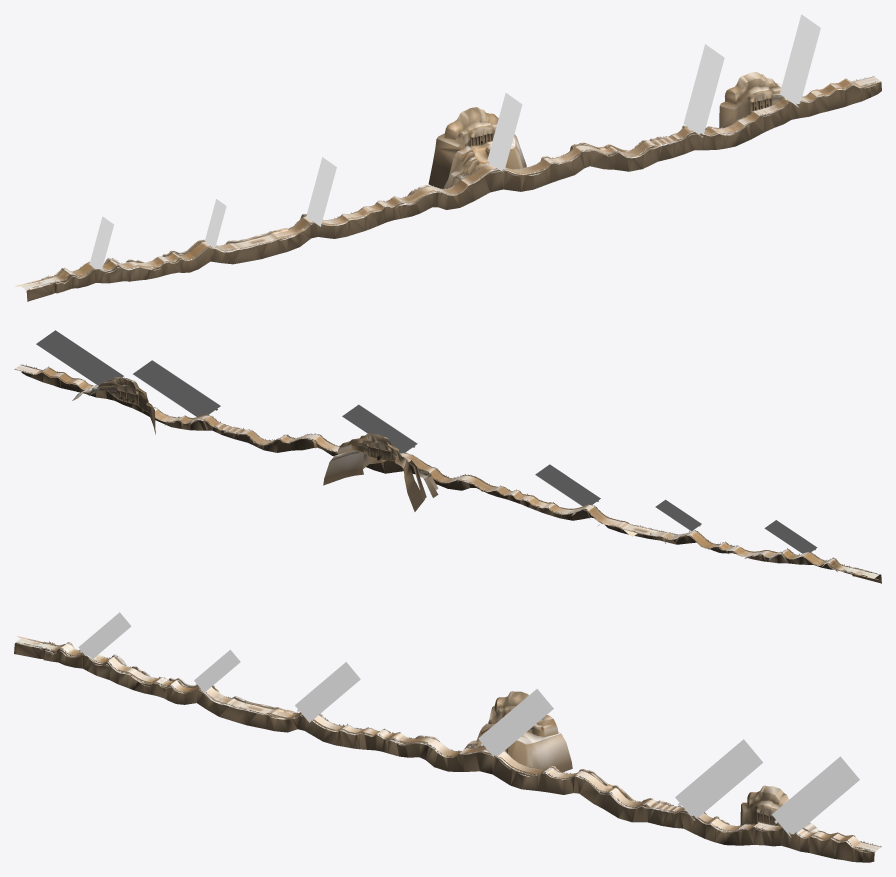
Rendered from Desert_11.fbx.
3 renders of one model, top to bottom at view 1: azimuth 30°, elevation 25°; view 2: azimuth 150°, elevation 25°; view 3: azimuth 330°, elevation 25°, orthographic.
Parts seen in each view (by area): view 1: Mountain_01, Light_01, Ground_01, Road_01, Tree_01; view 2: Mountain_01, Light_01, Ground_01, Road_01, Tree_01; view 3: Mountain_01, Light_01, Ground_01, Road_01, Tree_01.
Part boxes in pixels (x1,y1,x2,y2): Mountain_01: (26, 72, 881, 301); Light_01: (89, 14, 820, 269); Ground_01: (20, 77, 879, 288); Road_01: (25, 76, 880, 289); Tree_01: (40, 76, 881, 285); Mountain_01: (21, 365, 881, 583); Light_01: (36, 330, 817, 553); Ground_01: (15, 365, 878, 578); Road_01: (14, 365, 879, 578); Tree_01: (14, 364, 862, 573); Mountain_01: (14, 642, 874, 862); Light_01: (78, 612, 859, 837); Ground_01: (17, 638, 880, 850); Road_01: (16, 639, 881, 851); Tree_01: (33, 641, 881, 852).
Size of the model in its own units: 129729 by 13338 by 9163.
